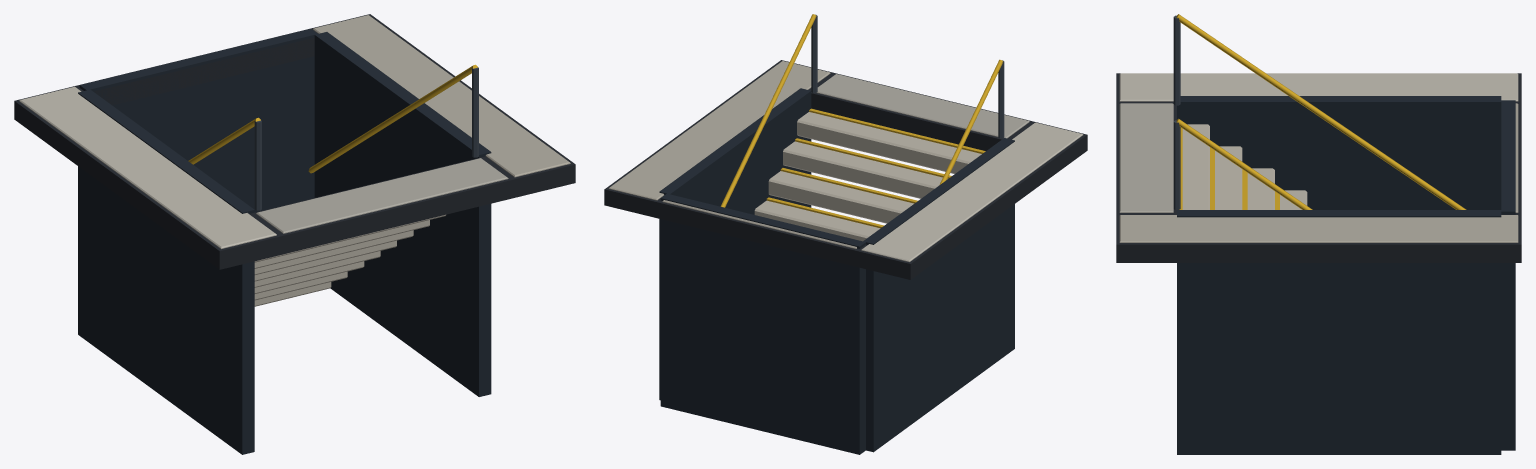
The model's file is stairs_down.fbx.
The picture shows the model from 3 angles, left to right: view 1: azimuth 30°, elevation 25°; view 2: azimuth 150°, elevation 25°; view 3: azimuth 270°, elevation 25°; orthographic projection. The views are drawn at different scales.
Visible parts, largest first — view 1: stairs_down; view 2: stairs_down; view 3: stairs_down.
Part boxes in pixels (x1,y1,x2,y2): stairs_down: (14,14,575,454); stairs_down: (604,14,1087,454); stairs_down: (1116,14,1521,454).
Bounding box in the file's own units: 4 × 3.57 × 4.
